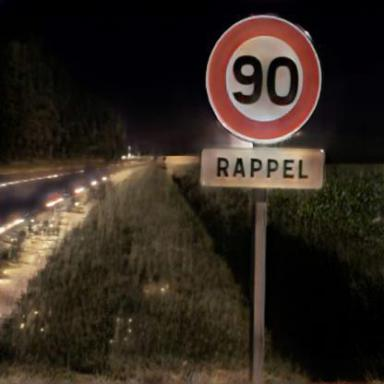Speed_limit_90: (209, 16, 319, 140)
